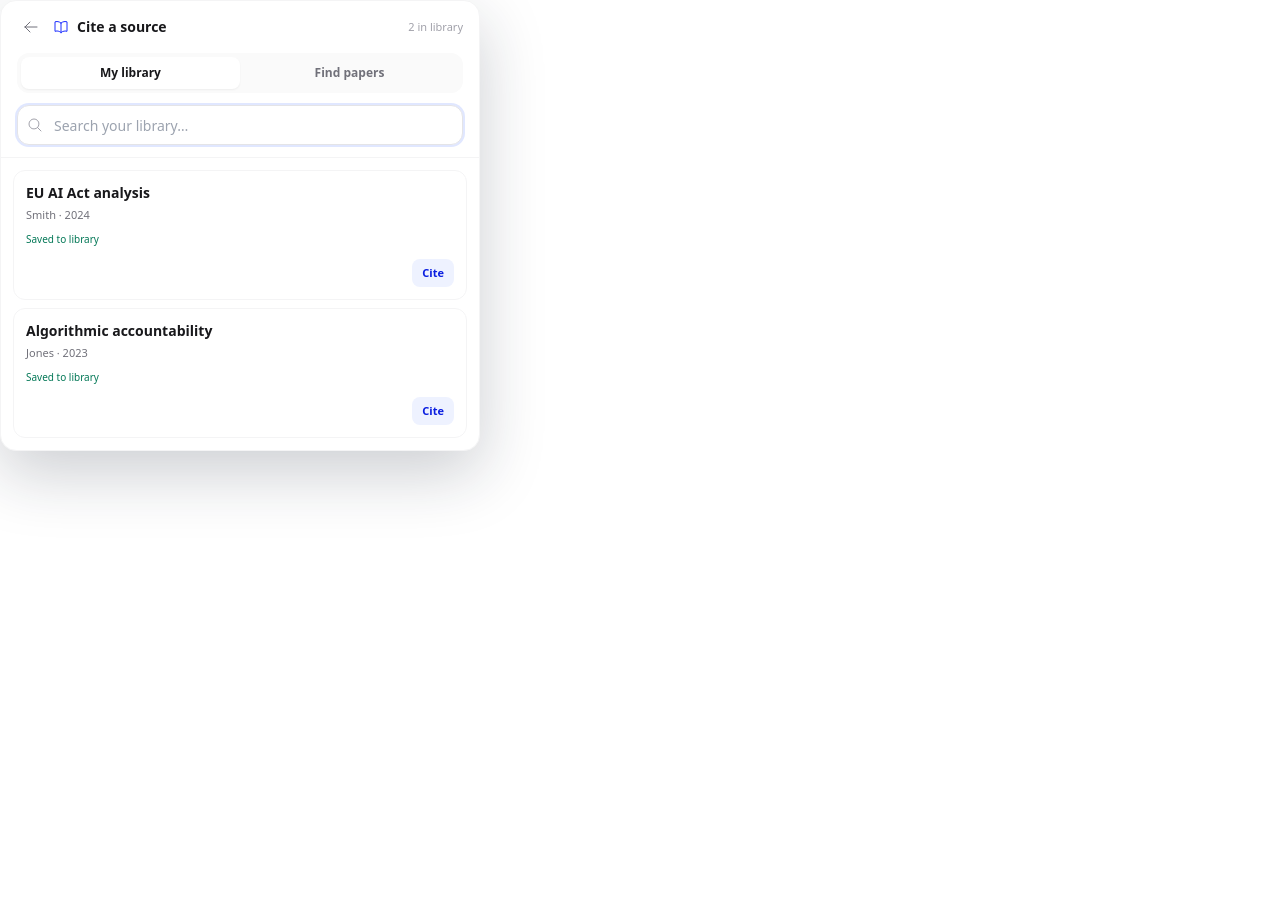
CitePopover › filters by typeahead query
The width and height of the screenshot is (1280, 900).
Expected: the text "Smith · 2024" is shown, [26,207,90,222]
Type "Jones" into the field at [240, 125], box [17,105,463,145]
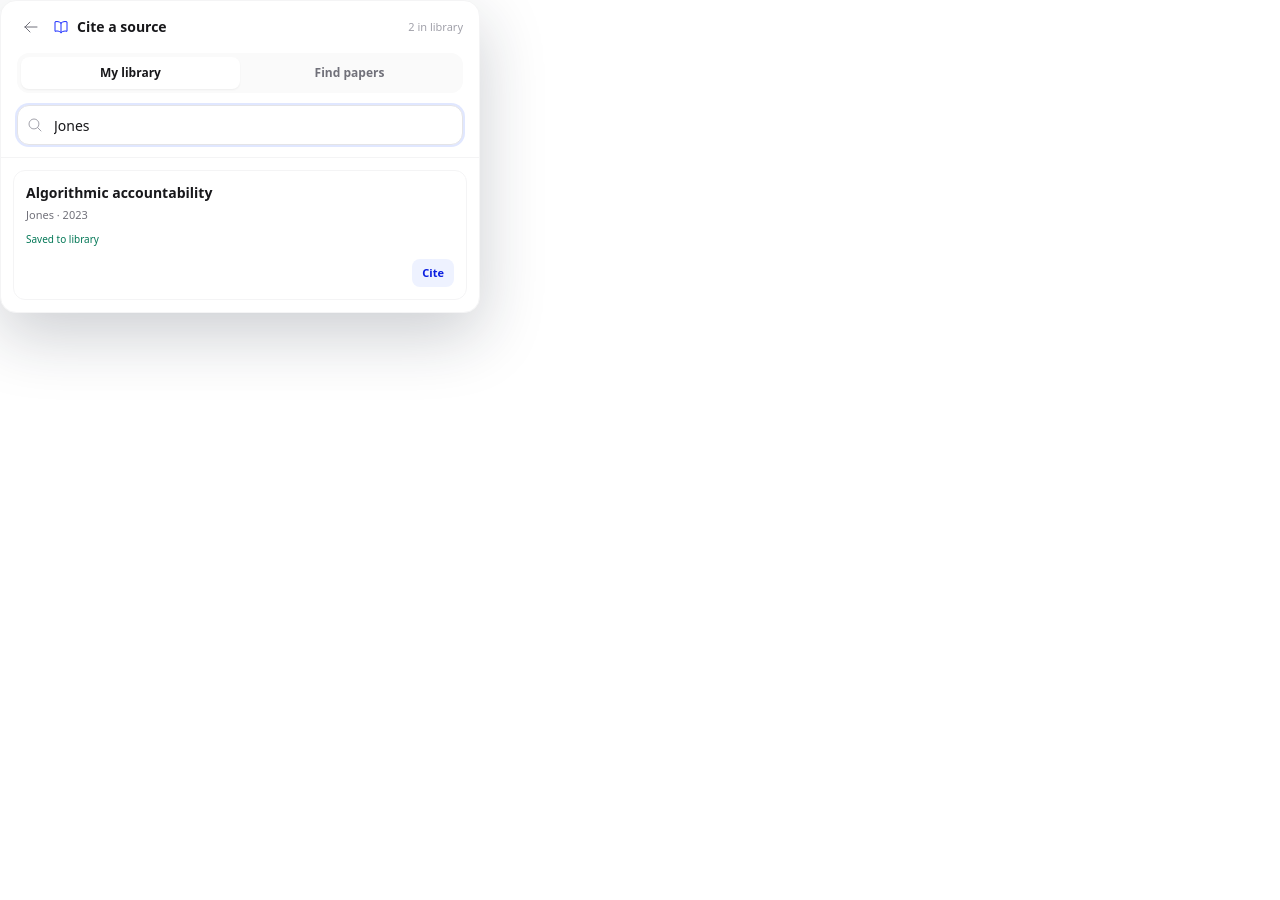
Expected: the text "Jones · 2023" is shown, [26,207,88,222]
Now the text "Smith" is gone
